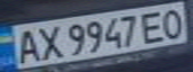4: (103, 15, 127, 49)
7: (118, 11, 142, 47)
9: (81, 18, 106, 54), (63, 20, 87, 56)
A: (9, 26, 42, 64)
E: (136, 8, 172, 44)
O: (157, 6, 190, 39)
X: (33, 22, 66, 61)
